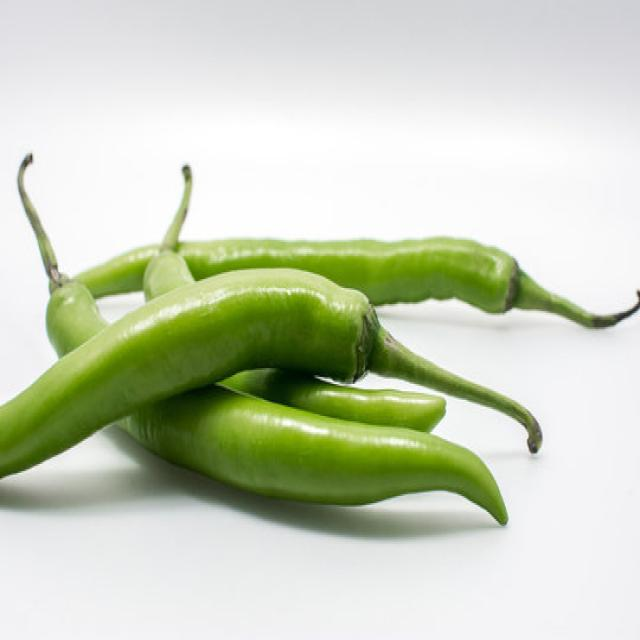Chilli: (17, 155, 638, 341), (111, 384, 508, 526), (15, 150, 109, 358), (213, 366, 447, 432), (142, 162, 196, 302)
